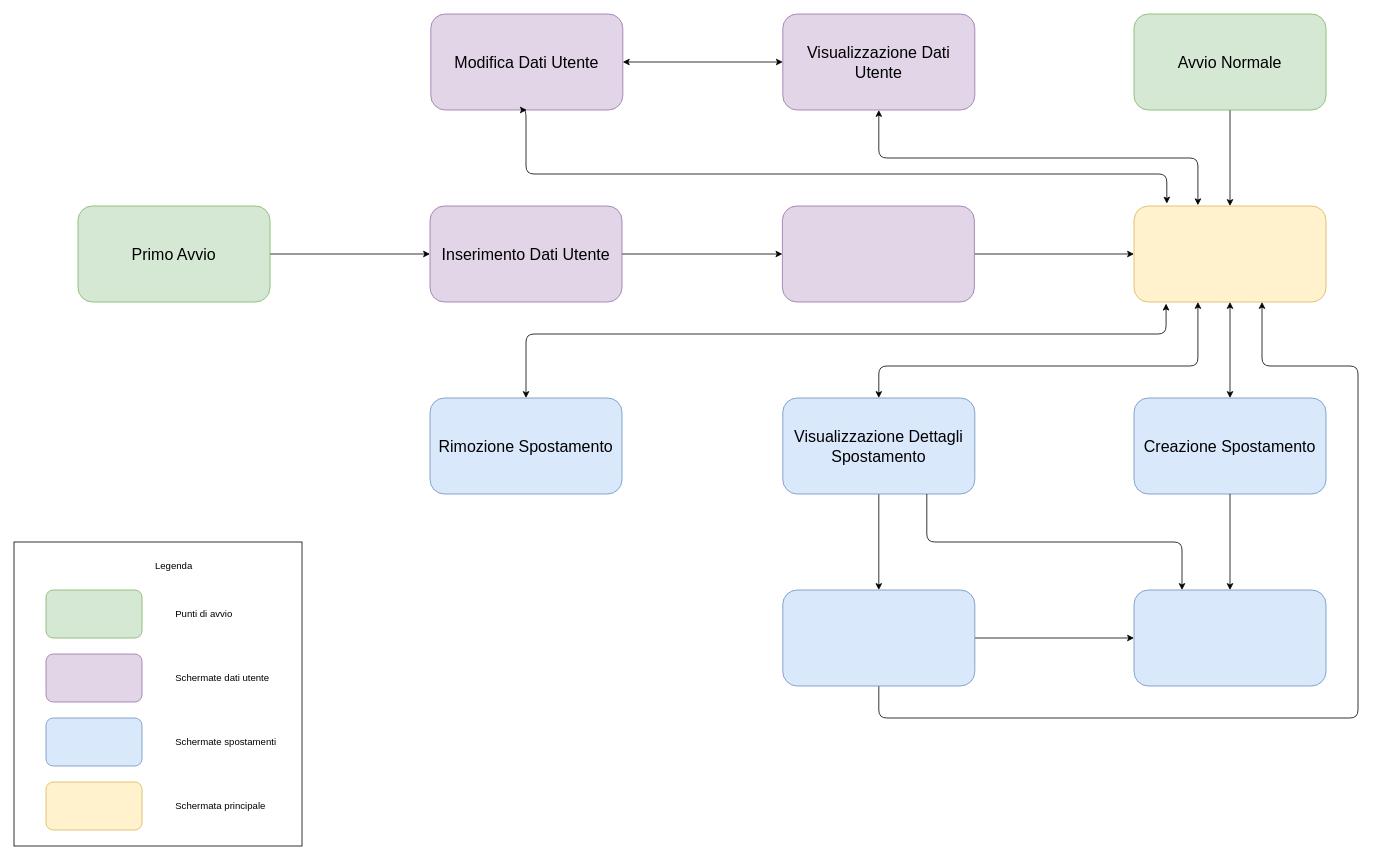
The diagram is 1378 pixels wide and 860 high, and some of its shapes have lost their labels. The shapes that lost their labels are listed below. From the top down, each one's box as (x1, y1, x2, y2) in pixels, then its label:
(782, 205, 974, 302): Inserimento Spostamenti Standard
(1133, 205, 1326, 302): Home Page
(782, 589, 975, 686): Modifica Spostamento
(1133, 589, 1326, 686): Generazione Modulo
